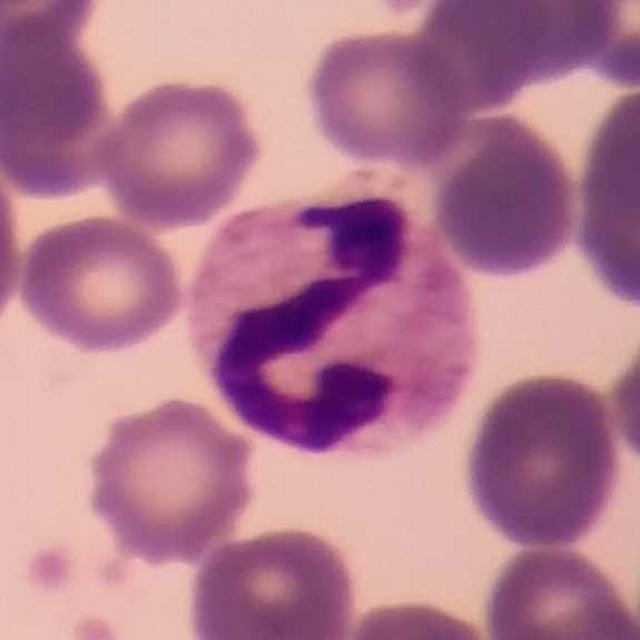Neutrophil: (178, 171, 491, 472)
Platelets: (31, 546, 81, 592), (74, 610, 114, 640)
RBC: (458, 366, 626, 552), (80, 392, 261, 563), (90, 72, 270, 230), (428, 111, 584, 283), (13, 210, 190, 356), (300, 21, 472, 170), (0, 11, 119, 202), (181, 521, 362, 640), (566, 74, 640, 317), (478, 538, 637, 640), (430, 0, 620, 77), (326, 593, 503, 640), (558, 0, 640, 90), (488, 593, 640, 637), (604, 308, 640, 479), (0, 140, 28, 352), (1, 0, 105, 53)
